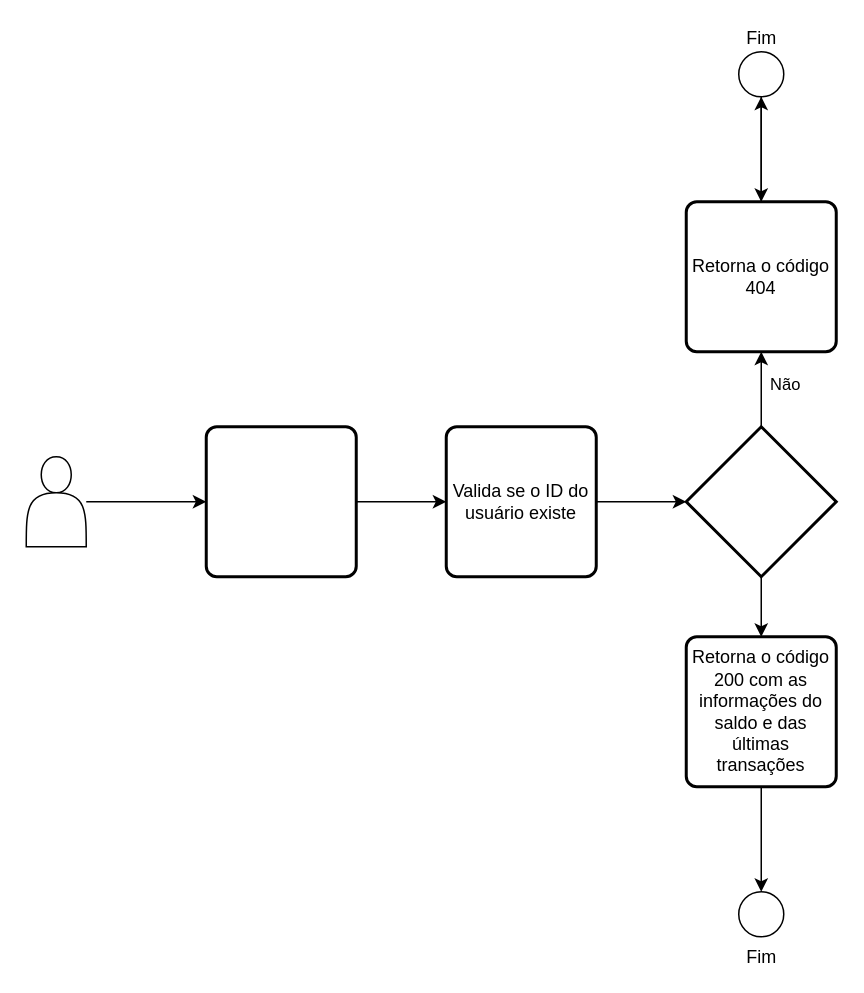
The diagram is 864 pixels wide and 993 high, and some of its shapes have lost their labels. Here are the shapes that lost their labels. From the top down, the box of each, then its label:
(204, 424, 357, 578): Usuário envia a requisição do extrato
(684, 424, 837, 578): ID existe?
